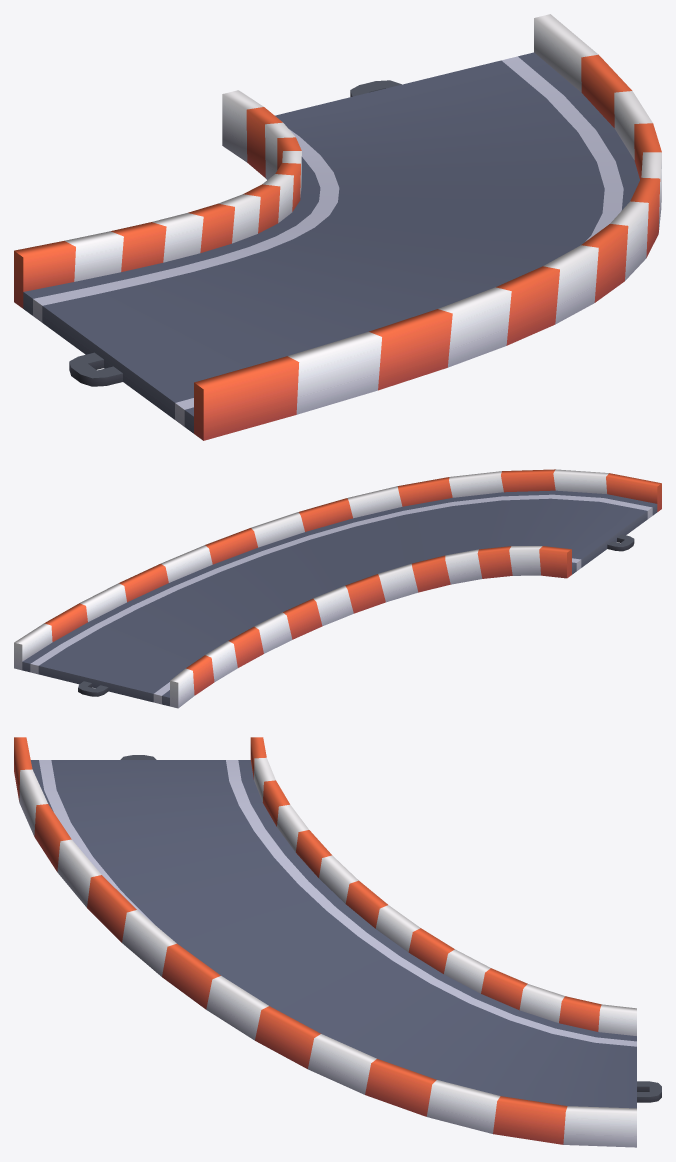
File: track-road-wide-corner-large-ramp.glb
The picture shows the model from 3 angles, top to bottom: view 1: azimuth 30°, elevation 25°; view 2: azimuth 150°, elevation 25°; view 3: azimuth 270°, elevation 25°; orthographic projection. The views are drawn at different scales.
Visible parts, largest first — view 1: track-road-wide-corner-large-ramp; view 2: track-road-wide-corner-large-ramp; view 3: track-road-wide-corner-large-ramp.
Boxes of the visible parts, box(x1,y1,x2,y2) form: track-road-wide-corner-large-ramp: box(14, 14, 661, 440); track-road-wide-corner-large-ramp: box(14, 469, 661, 708); track-road-wide-corner-large-ramp: box(14, 737, 661, 1147).
Size of the model in its own units: 5.2 by 1.3 by 5.2.
1 material, 1 textured.
